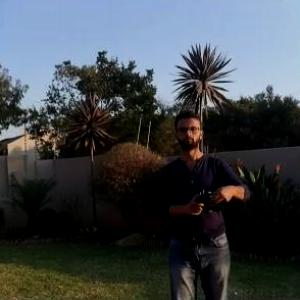follow: (155, 103, 256, 299)
